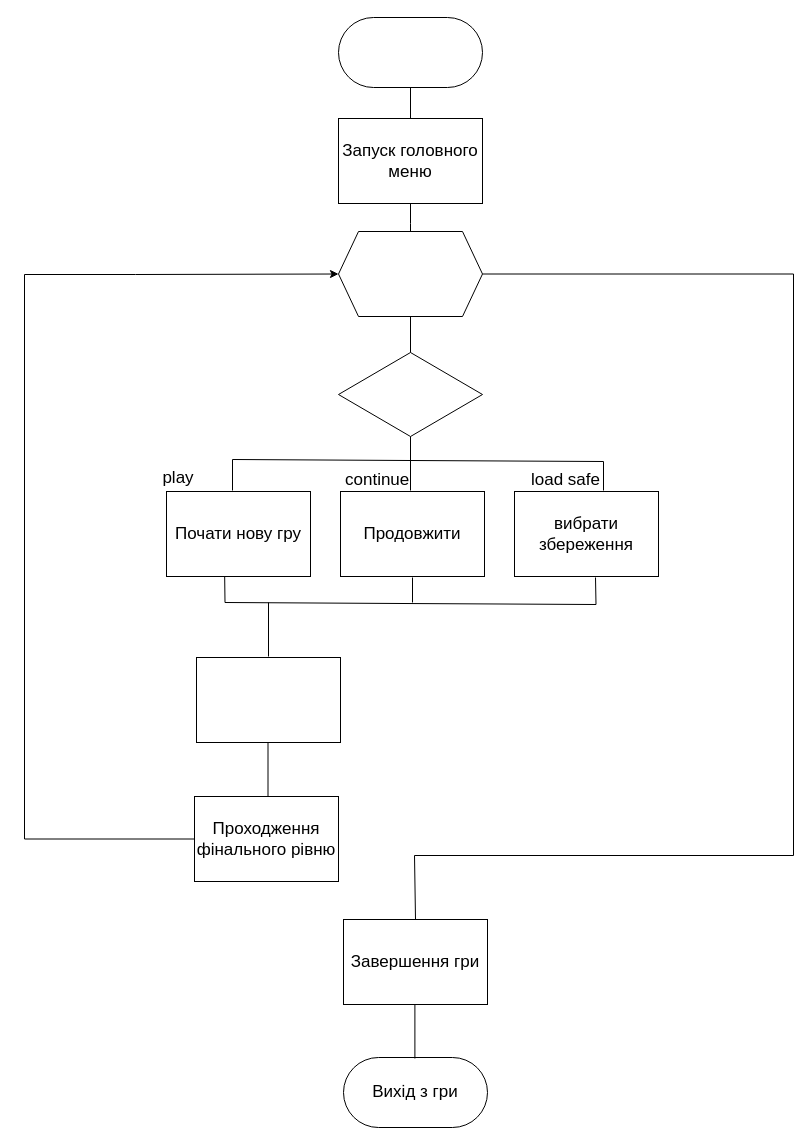
Some shapes in this 812 by 1145 pixel diagram are drawn without their labels. Here are the shapes that lost their labels. From the top down, the box of each, then its label:
(338, 16, 482, 88): Запуск гри
(338, 230, 482, 316): Очікування дій гравця
(338, 352, 482, 436): Тип дії
(196, 656, 340, 742): Ігровий процес
